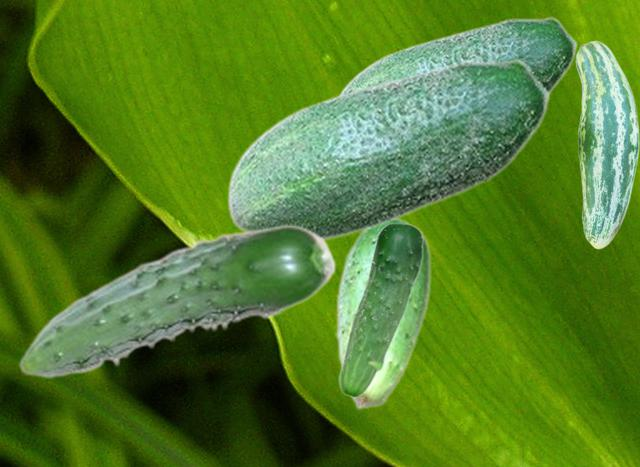cucumber: (226, 58, 550, 243), (18, 224, 336, 377), (337, 16, 577, 93), (335, 217, 430, 409), (337, 222, 423, 397), (575, 40, 638, 248)
